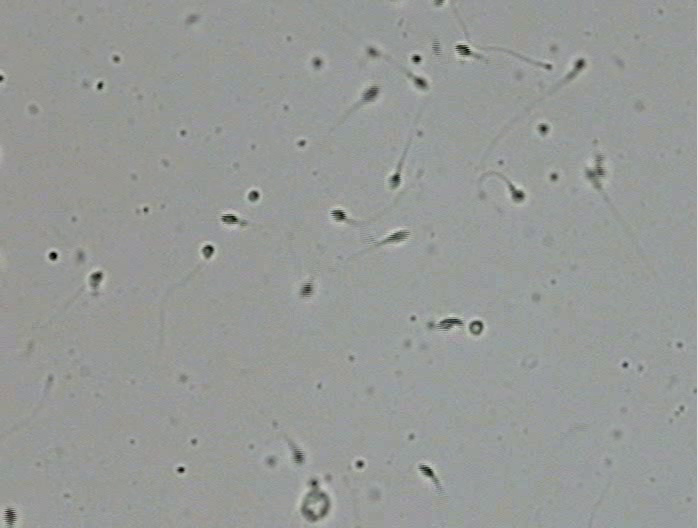Impurity: (299, 478, 330, 522)
S: (385, 230, 410, 243), (363, 85, 379, 103), (417, 463, 434, 479), (3, 508, 17, 526), (439, 318, 459, 330), (585, 169, 600, 185), (510, 187, 525, 202), (330, 209, 347, 222), (388, 172, 401, 189), (455, 44, 472, 56), (595, 157, 605, 177), (470, 321, 484, 335), (299, 282, 313, 296), (431, 39, 442, 56), (90, 272, 103, 286), (221, 214, 238, 224), (202, 245, 214, 259), (413, 76, 427, 88), (573, 58, 585, 71), (293, 449, 304, 463), (537, 123, 548, 135), (312, 57, 322, 68), (367, 47, 378, 56), (249, 191, 258, 200), (411, 55, 421, 63), (434, 1, 445, 7), (1, 74, 5, 82)
